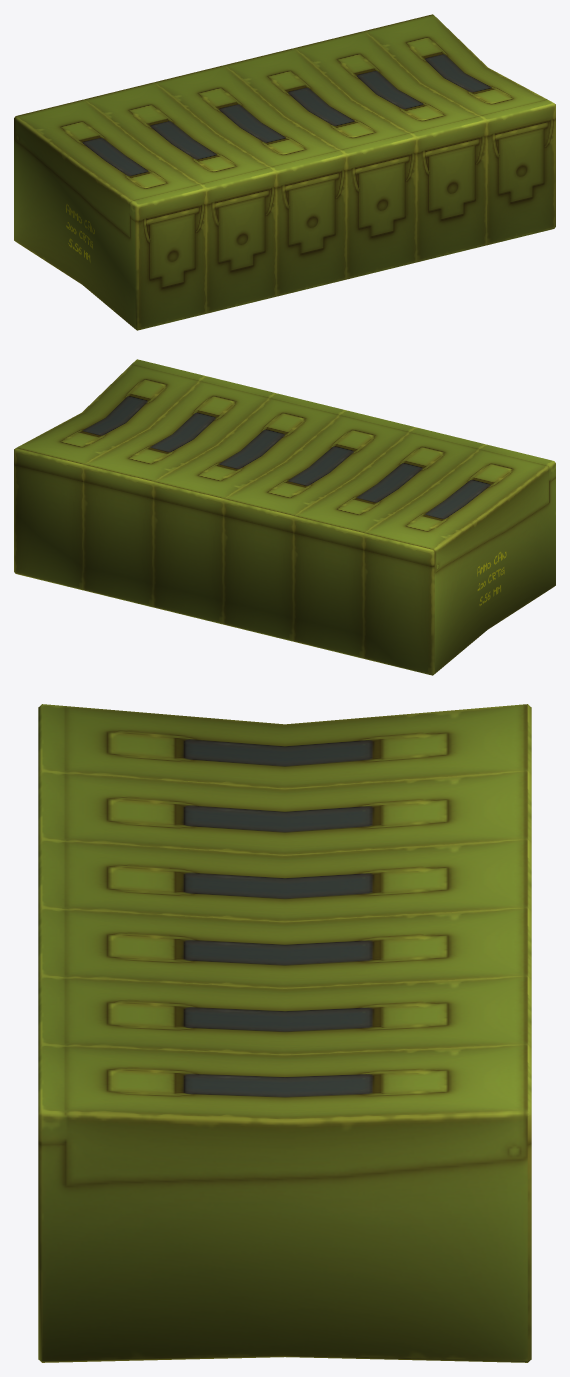
Rendered from AmmoCan01_3.FBX.
The picture shows the model from 3 angles, top to bottom: view 1: azimuth 30°, elevation 25°; view 2: azimuth 150°, elevation 25°; view 3: azimuth 270°, elevation 25°; orthographic projection. The views are drawn at different scales.
Parts seen in each view (by area): view 1: AmmoCan01_3; view 2: AmmoCan01_3; view 3: AmmoCan01_3.
Boxes of the visible parts, x1=… form: AmmoCan01_3: x1=14, y1=14, x2=555, y2=330; AmmoCan01_3: x1=14, y1=359, x2=555, y2=675; AmmoCan01_3: x1=38, y1=704, x2=531, y2=1362.
Size of what is drawn, in the model's own units: 0.7274 by 0.208 by 0.3697.
